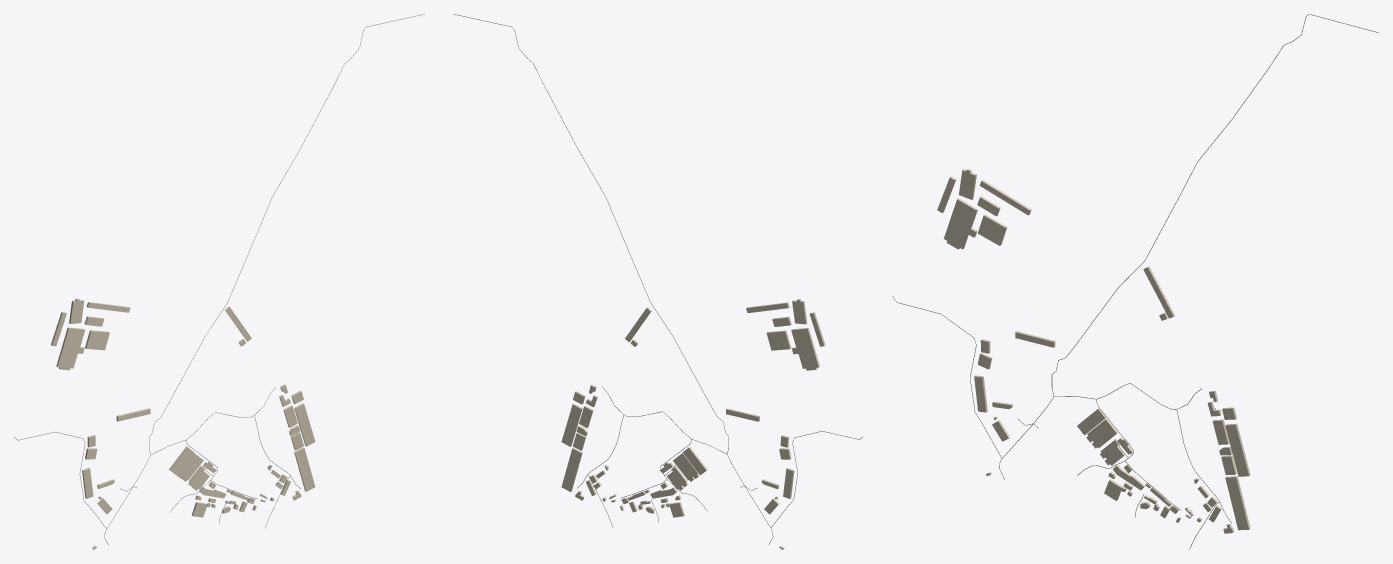
Rendered from historic-palestine-12_31_3535_3257.glb.
The picture shows the model from 3 angles, left to right: view 1: azimuth 30°, elevation 25°; view 2: azimuth 150°, elevation 25°; view 3: azimuth 330°, elevation 25°; orthographic projection. The views are drawn at different scales.
Visible parts, largest first — view 1: Building_.022, Road .003, Building_.002; view 2: Building_.022, Road .003, Building_.002; view 3: Building_.022, Building_.002, Building_.001.
Part boxes in pixels (x1,y1,x2,y2): Building_.022: (56,327,84,370); Road .003: (149,14,424,454); Building_.002: (294,447,315,491); Building_.022: (791,328,819,370); Road .003: (453,14,728,453); Building_.002: (561,447,582,491); Building_.022: (943,198,977,249); Building_.002: (1225,476,1250,530); Building_.001: (1225,423,1250,476).
Bounding box in the file's own units: 1389 × 1543 × 8.7.
